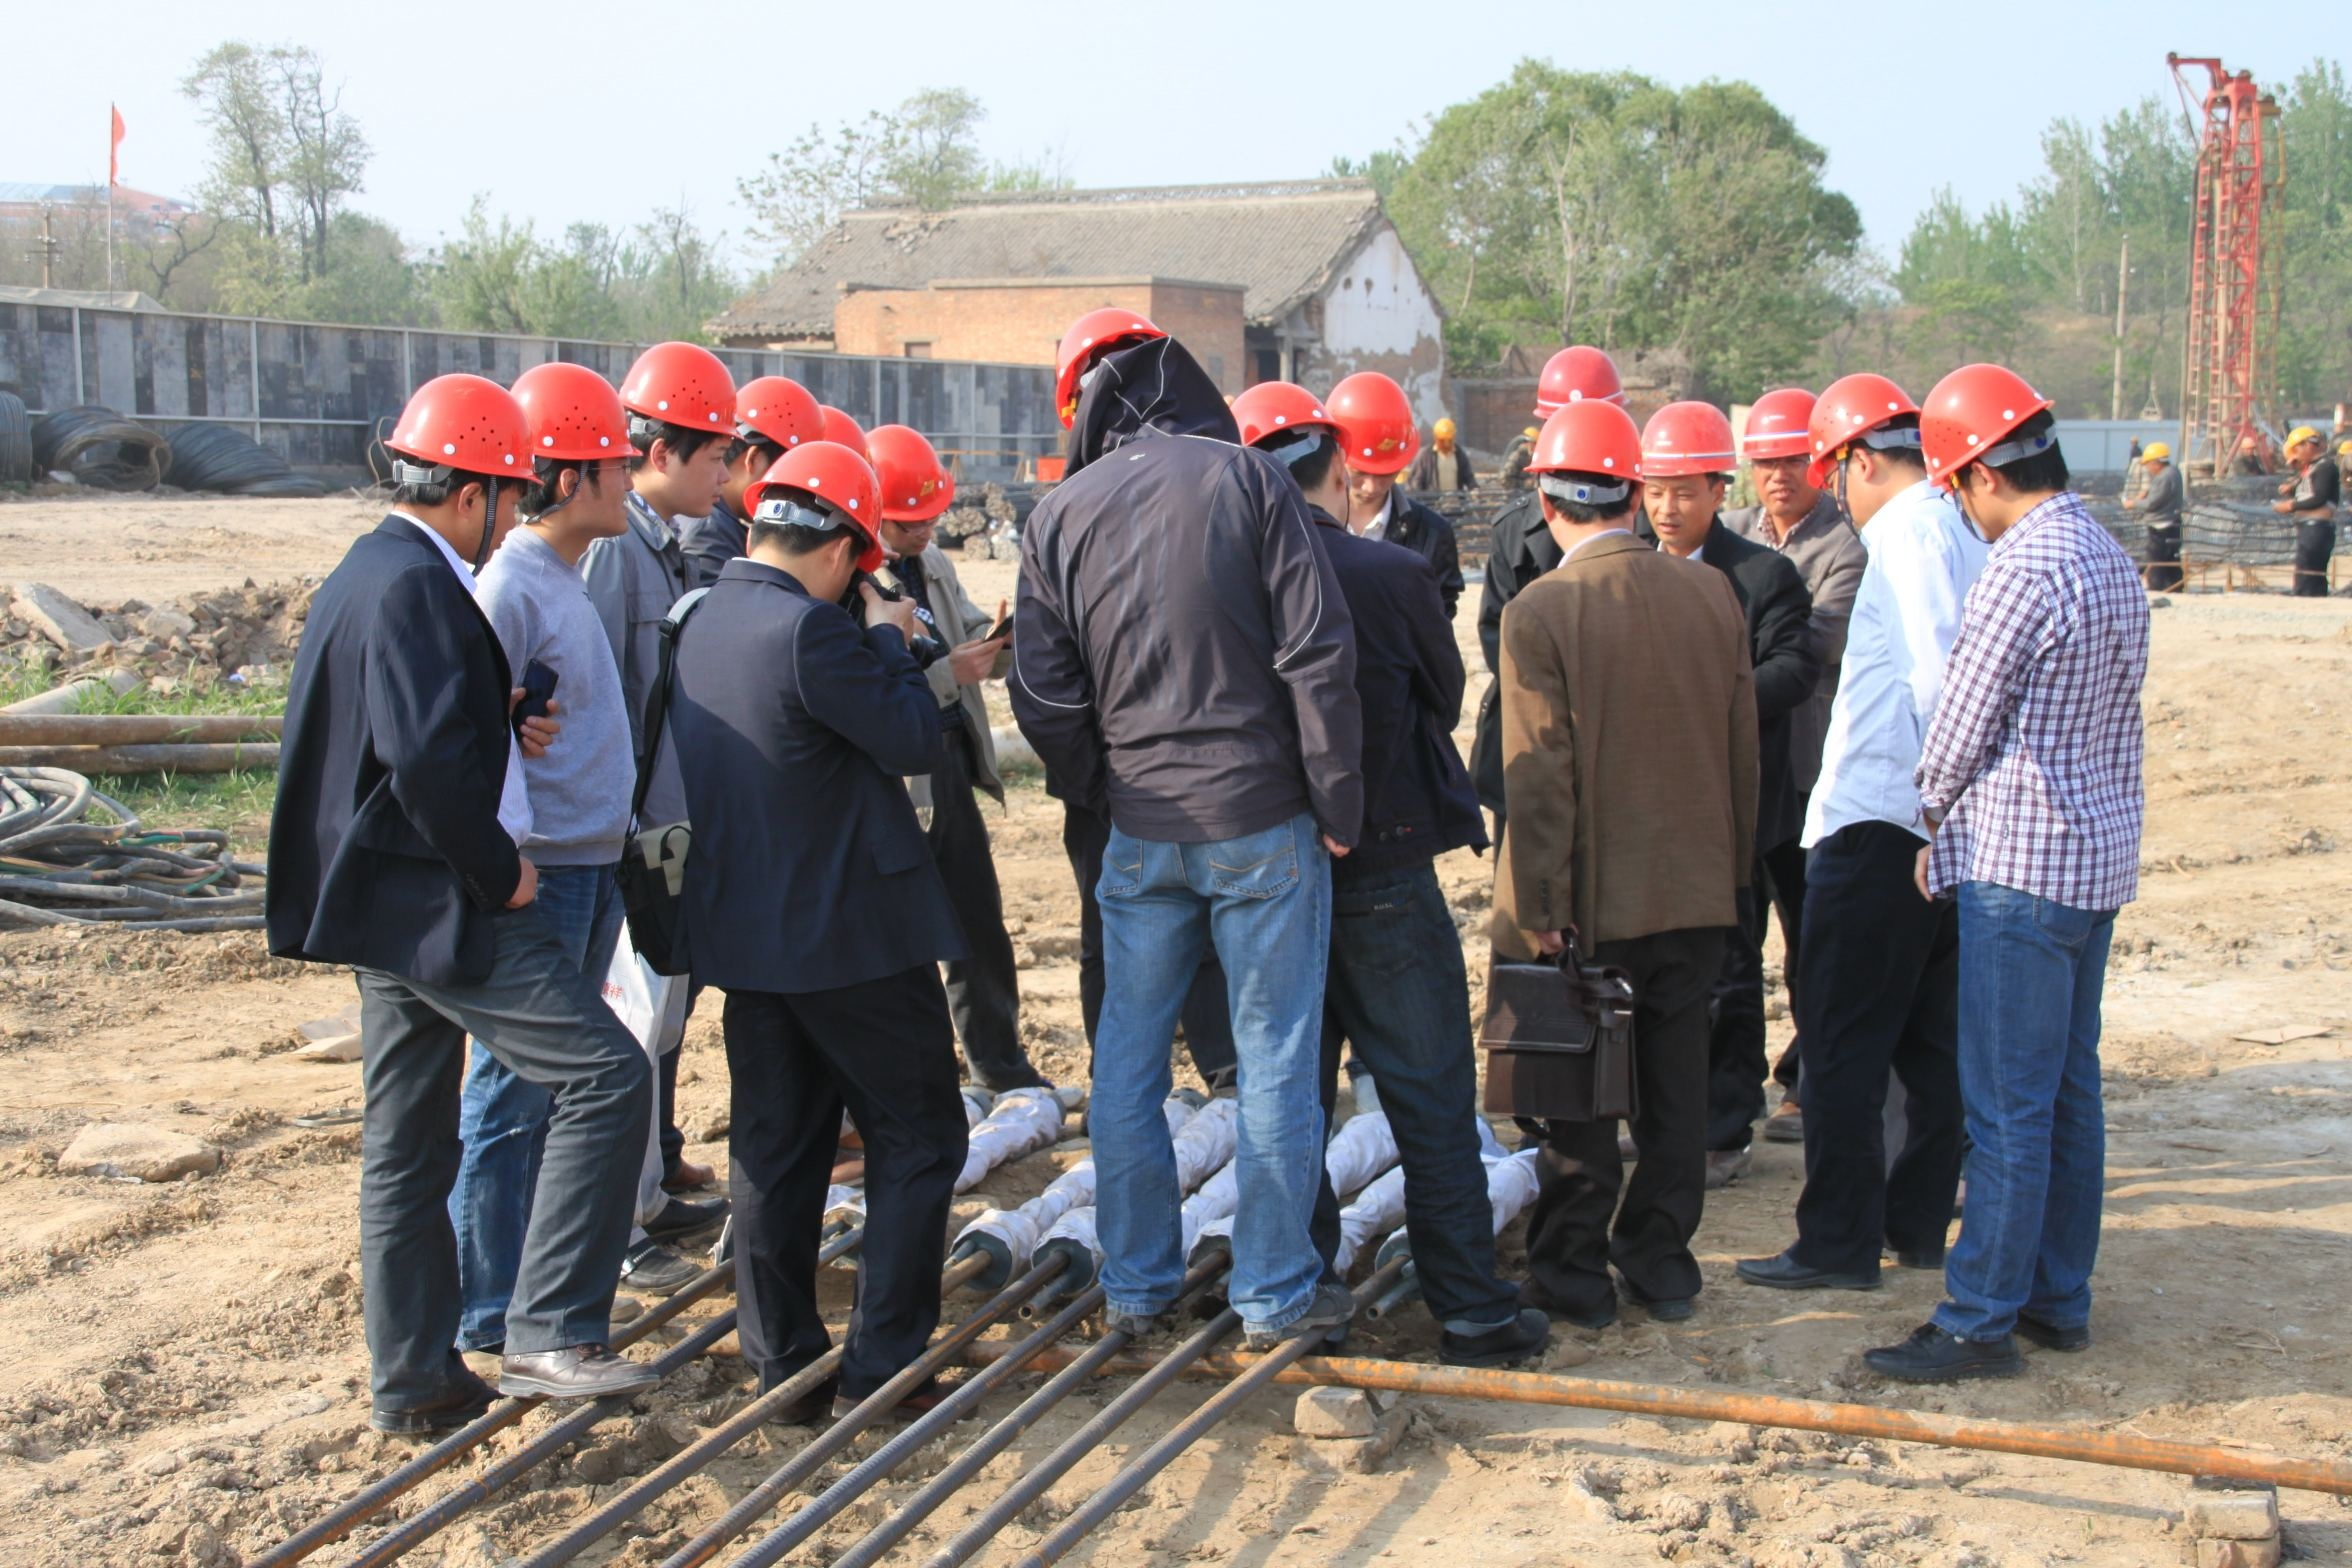red: (380, 369, 530, 567), (504, 353, 635, 563), (1914, 360, 2063, 535), (607, 331, 738, 523), (747, 443, 877, 597), (1052, 304, 1186, 451), (1227, 373, 1347, 534), (1522, 395, 1641, 551), (1808, 367, 1921, 528), (1629, 390, 1738, 556), (717, 369, 817, 509), (1738, 380, 1822, 528), (863, 416, 948, 562), (1326, 367, 1410, 509)
yellow: (2287, 423, 2322, 460), (2138, 436, 2170, 476), (1430, 408, 1458, 450)
